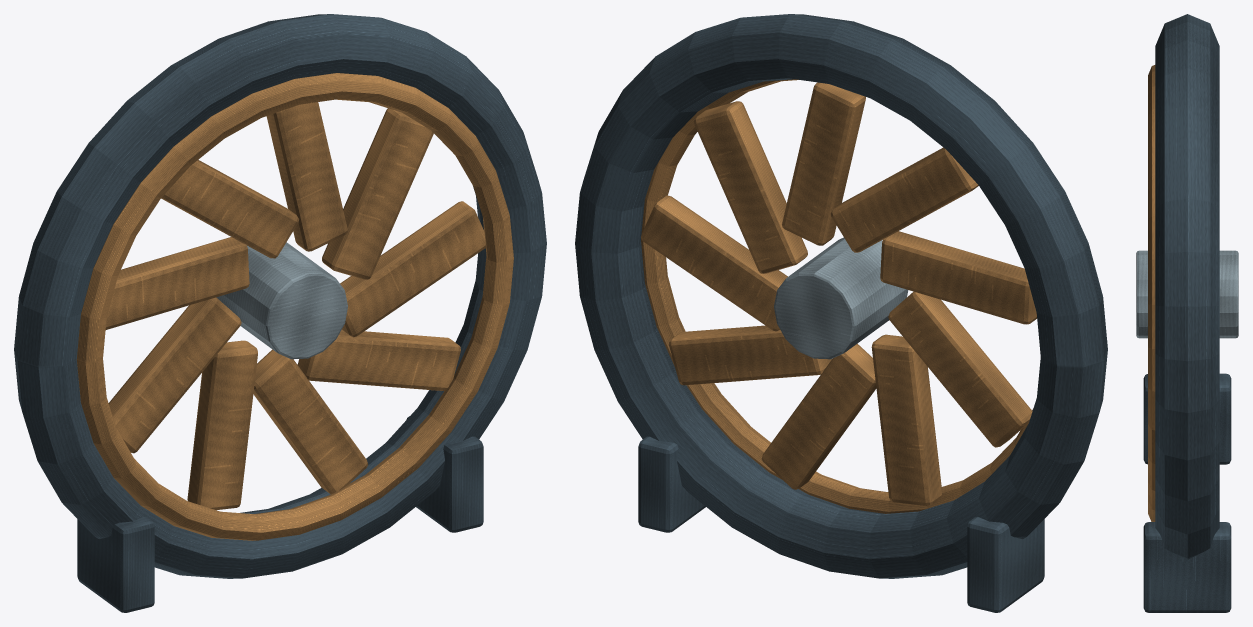
The model's file is turbine.glb.
3 renders of one model, left to right at view 1: azimuth 30°, elevation 25°; view 2: azimuth 150°, elevation 25°; view 3: azimuth 270°, elevation 25°, orthographic. The views are drawn at different scales.
Visible parts, largest first — view 1: turbine; view 2: turbine; view 3: turbine.
Boxes of the visible parts, <box> form: turbine: <box>14,14,546,612</box>; turbine: <box>575,14,1107,612</box>; turbine: <box>1136,14,1238,612</box>.
Size of the model in its own units: 3.84 by 3.84 by 0.7.
3 materials, 3 textured.
